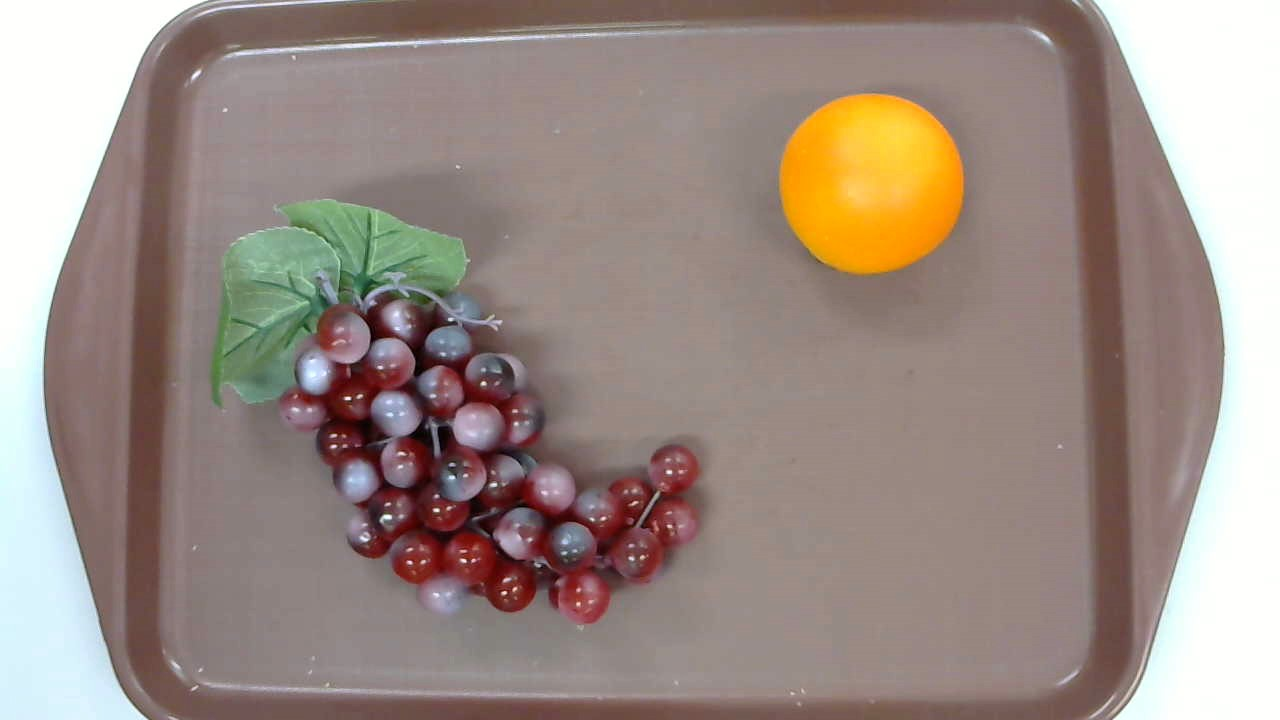bun: (779, 93, 965, 273)
grape: (208, 197, 700, 623)
